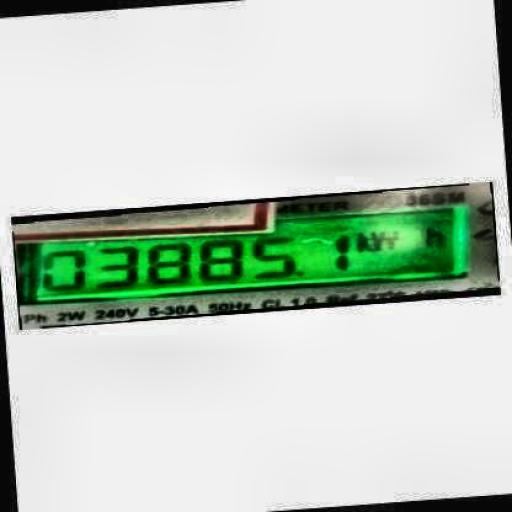DISPLAY_REGION: (10, 204, 478, 310)
SERIAL_REGION: (39, 222, 407, 294)
